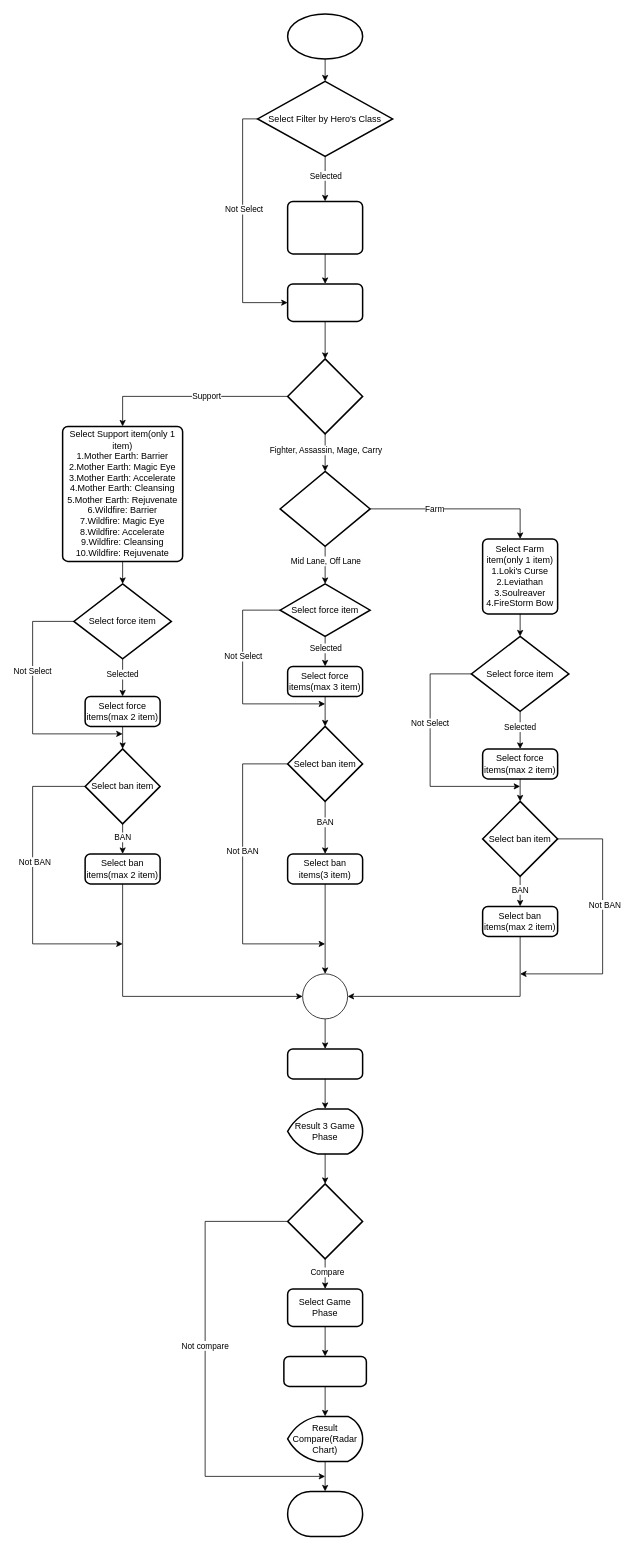
This 633x1550 diagram has some shape labels left out. The shapes that lost their labels are listed below. From the top down, each one's box as (x1, y1, x2, y2) in pixels, then its label:
(286, 13, 363, 59): Start
(286, 200, 363, 254): Select Hero's class for filter choice in dropdown
(286, 283, 363, 322): Select Hero
(286, 358, 363, 434): Select Hero's class
(279, 470, 370, 547): Select Hero's lane
(286, 1048, 363, 1079): Calculate
(286, 1183, 363, 1259): Compare Result
(283, 1355, 367, 1387): Select item(6 item)
(286, 1490, 363, 1537): End
